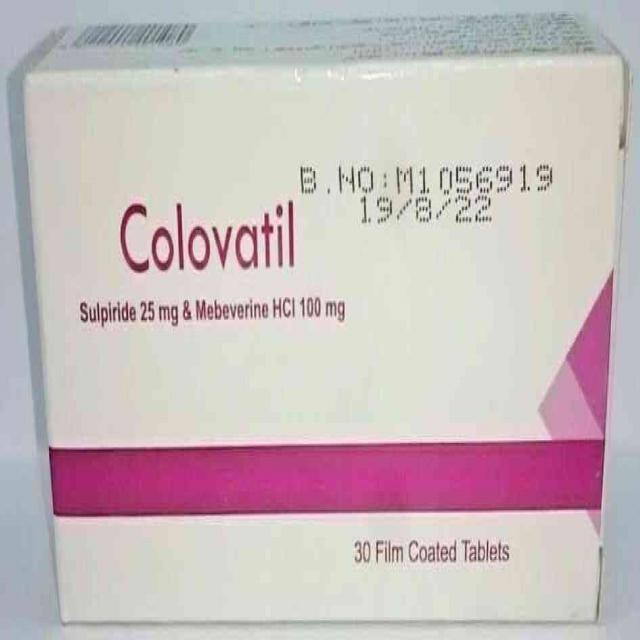drug-name: (114, 200, 298, 270)
